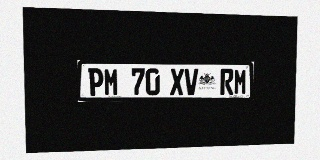0: (145, 68, 160, 95)
7: (130, 68, 145, 96)
M: (104, 68, 119, 96), (234, 69, 247, 95)
P: (88, 68, 103, 96)
R: (220, 69, 234, 95)
V: (184, 69, 198, 95)
X: (170, 68, 184, 95)
